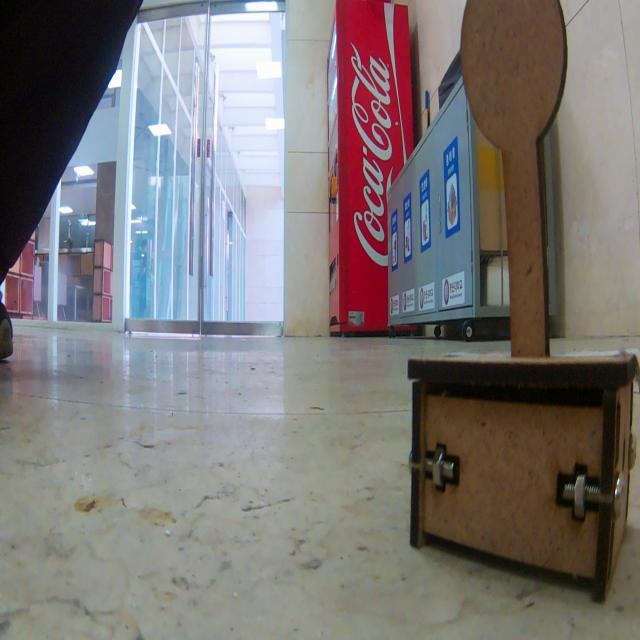target: (406, 0, 640, 607)
